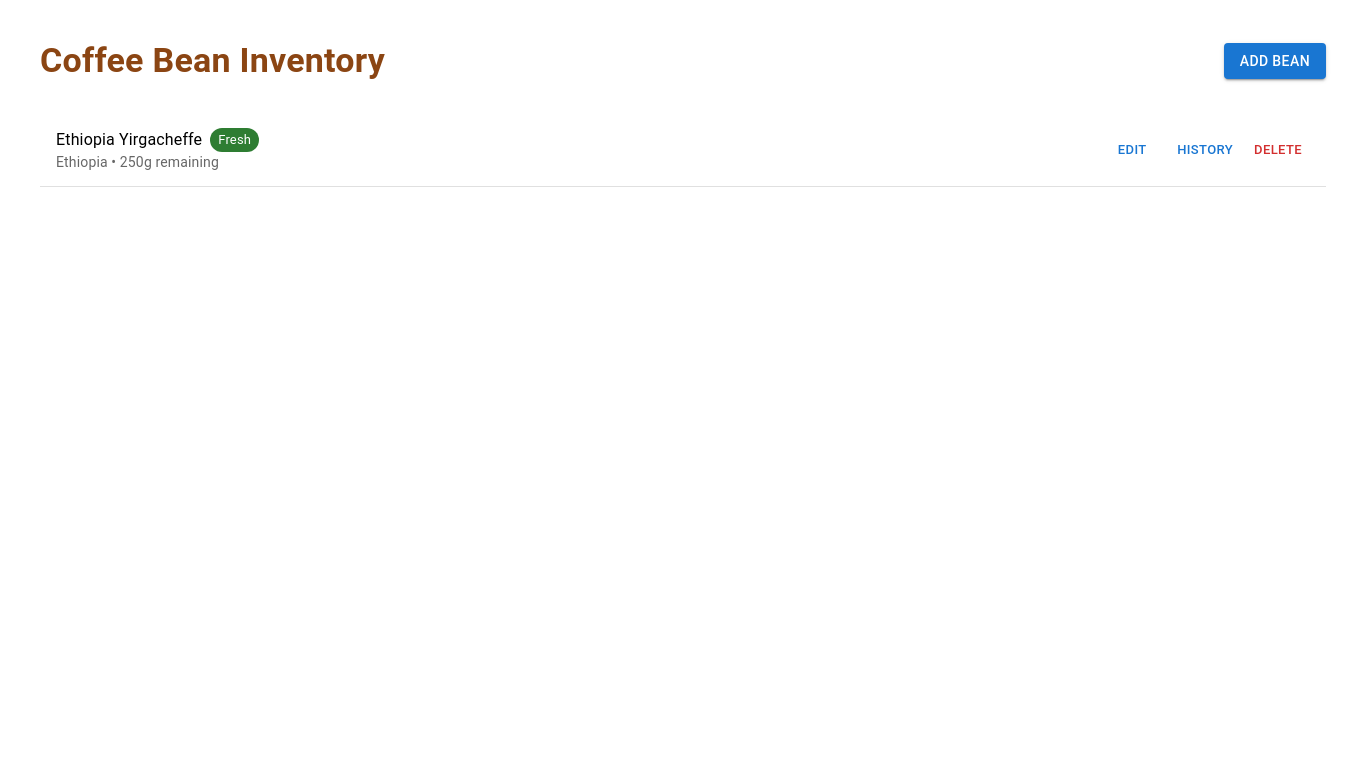
Test: BeanManager › treats usage success with no payload as empty history
Expected: the text "Ethiopia Yirgacheffe" is shown, left=56, top=128, right=202, bottom=152
Click the button "History" at (1205, 150), box left=1172, top=135, right=1238, bottom=165
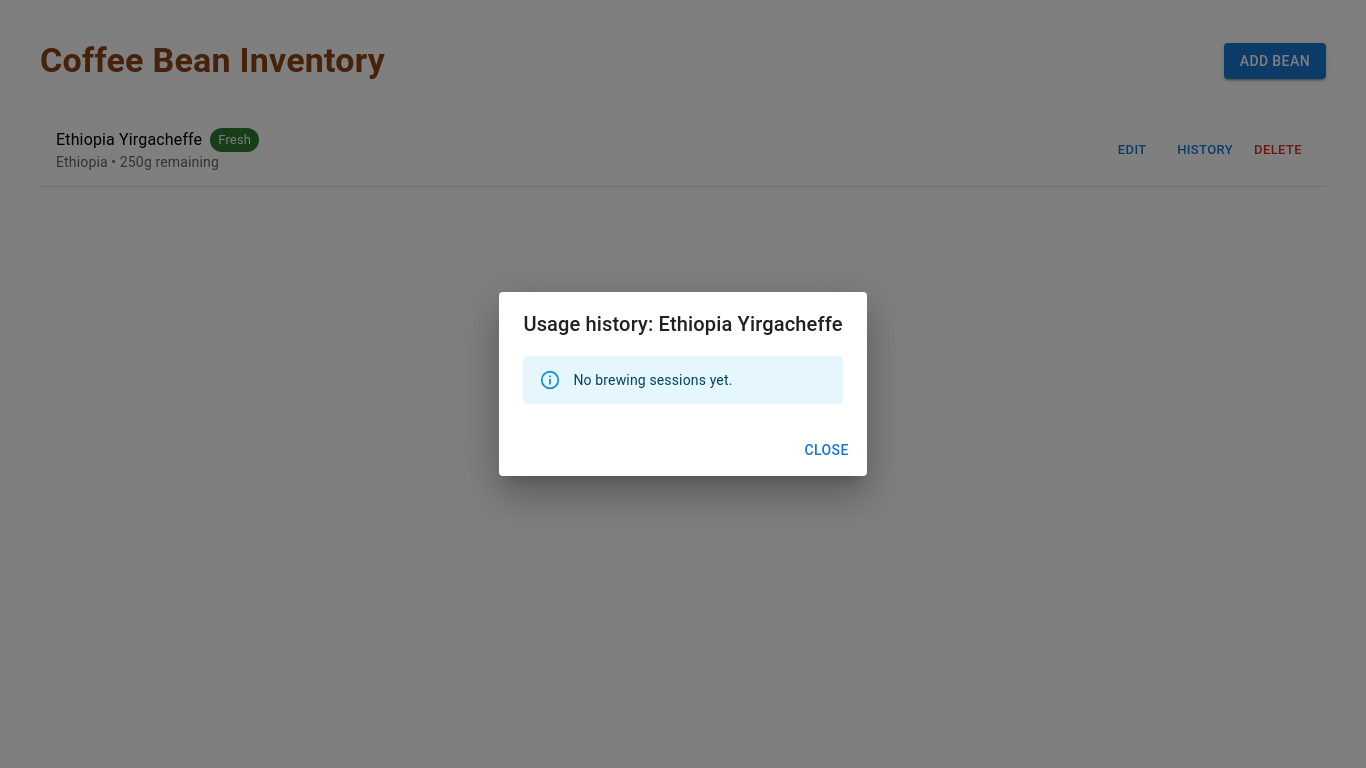
Now the text "No brewing sessions yet." is shown, box left=573, top=372, right=732, bottom=388
